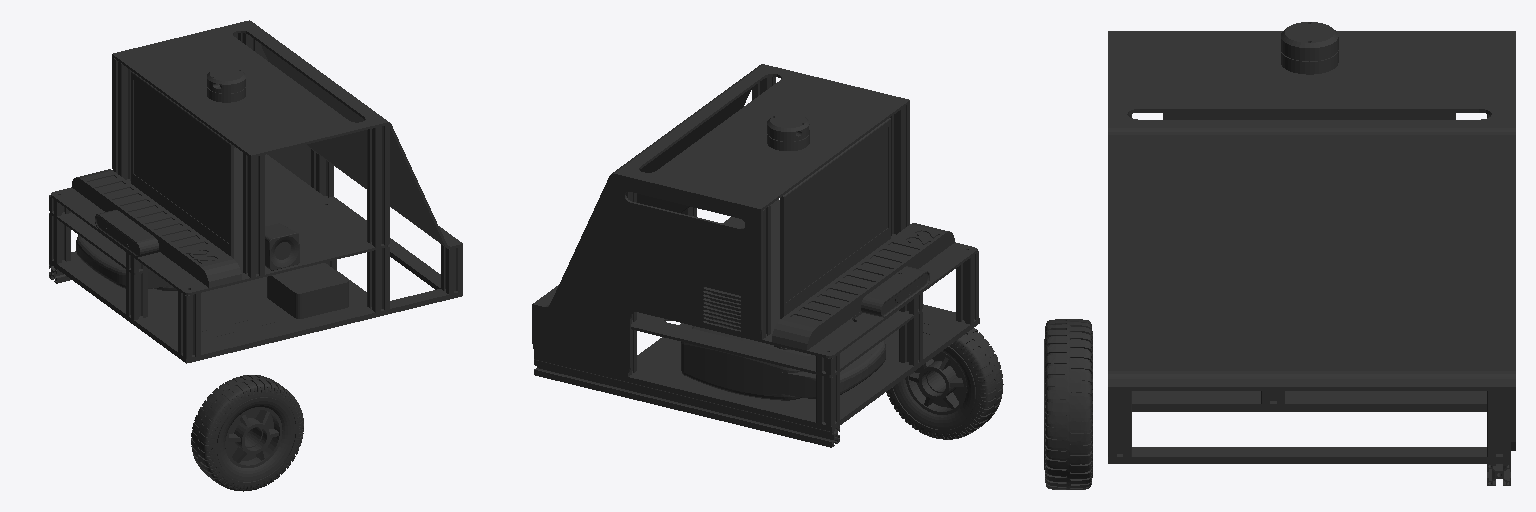
robot.urdf — capstone_0209_1:
<?xml version="1.0" encoding="utf-8"?>
<!-- This URDF was automatically created by SolidWorks to URDF Exporter! Originally created by [author] ([email redacted]) 
     Commit Version: 1.6.0-1-g15f4949  Build Version: 1.6.7594.29634
     For more information, please see http://wiki.ros.org/sw_urdf_exporter -->
<robot
  name="capstone_0209_1">
  <link
    name="base_link">
    <inertial>
      <origin
        xyz="-0.373320425061352 -0.0211116234772542 1.15862198744433"
        rpy="0 0 0" />
      <mass
        value="22.8998371180205" />
      <inertia
        ixx="0.234339637872532"
        ixy="0.0205701978873844"
        ixz="0.000551381601274083"
        iyy="0.374220939621622"
        iyz="5.36556162277599E-05"
        izz="0.223359546236833" />
    </inertial>
    <visual>
      <origin
        xyz="0 0 0"
        rpy="0 0 0" />
      <geometry>
        <mesh
          filename="package://capstone_0209_1/meshes/base_link.STL" />
      </geometry>
      <material
        name="">
        <color
          rgba="0.250980392156863 0.250980392156863 0.250980392156863 1" />
      </material>
    </visual>
    <collision>
      <origin
        xyz="0 0 0"
        rpy="0 0 0" />
      <geometry>
        <mesh
          filename="package://capstone_0209_1/meshes/base_link.STL" />
      </geometry>
    </collision>
  </link>
</robot>

--- Facts derived from the render (not from the file) ---
The picture shows the robot from 3 angles, left to right: view 1: azimuth 30°, elevation 25°; view 2: azimuth 150°, elevation 25°; view 3: azimuth 270°, elevation 25°; orthographic projection.
Robot: capstone_0209_1 — 1 links, 0 joints (none); root link base_link; default pose: every joint at zero.
Links seen in each view (by area): view 1: base_link; view 2: base_link; view 3: base_link.
Link boxes in pixels (x1,y1,x2,y2): base_link: [49, 20, 462, 491]; base_link: [532, 64, 1003, 447]; base_link: [1044, 22, 1515, 489].
Bounding box of the posed robot: 0.586 × 0.5834 × 0.6746 m (x, y, z).
1 mesh visuals loaded from 1 distinct referenced files (1 binary STL).